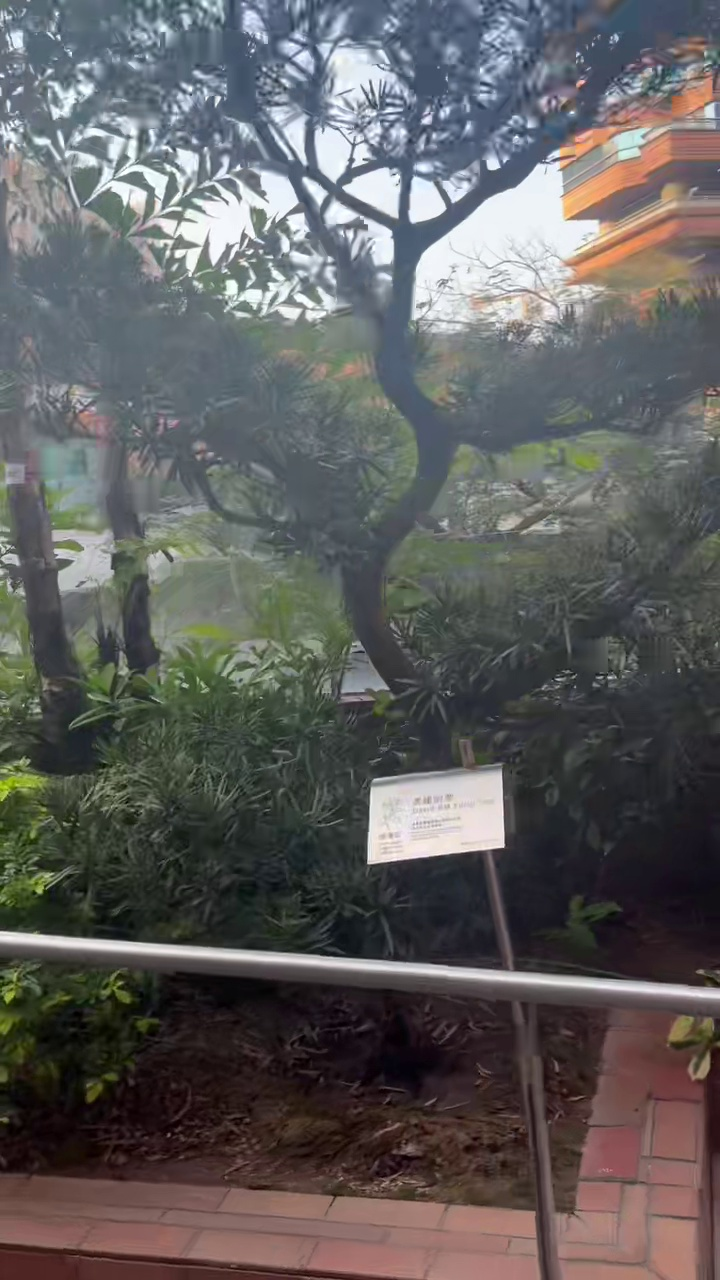Podocarpus macrophyllus: (148, 0, 719, 695)
